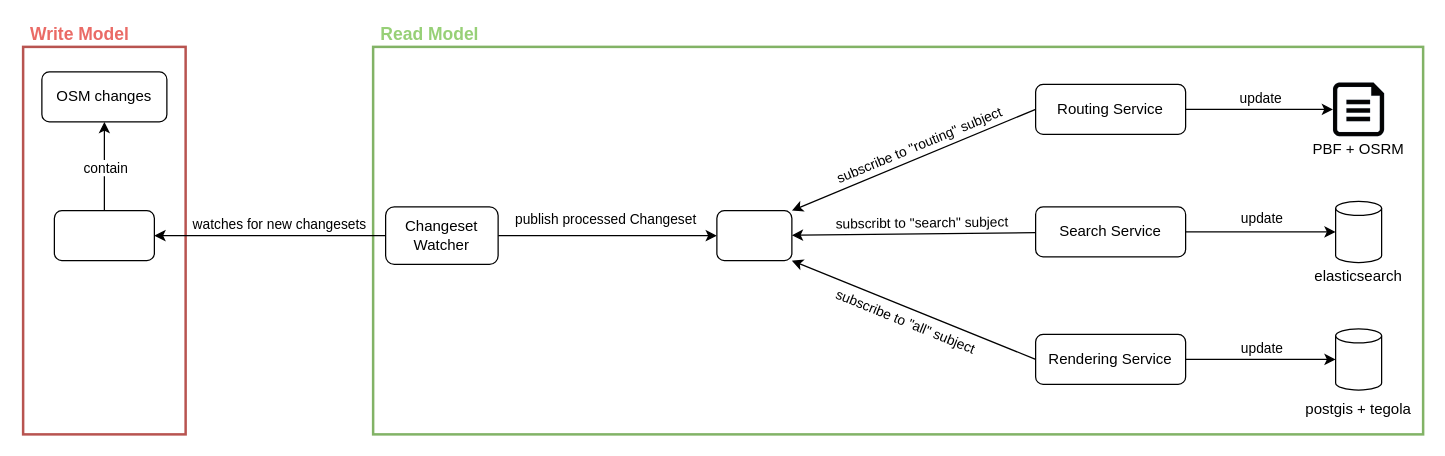
Image size: 1445x456. Some labels were removed from this diagram. Each missing label, with the box of its shape:
Changesets: (53, 209, 154, 261)
Nats: (716, 209, 792, 261)
